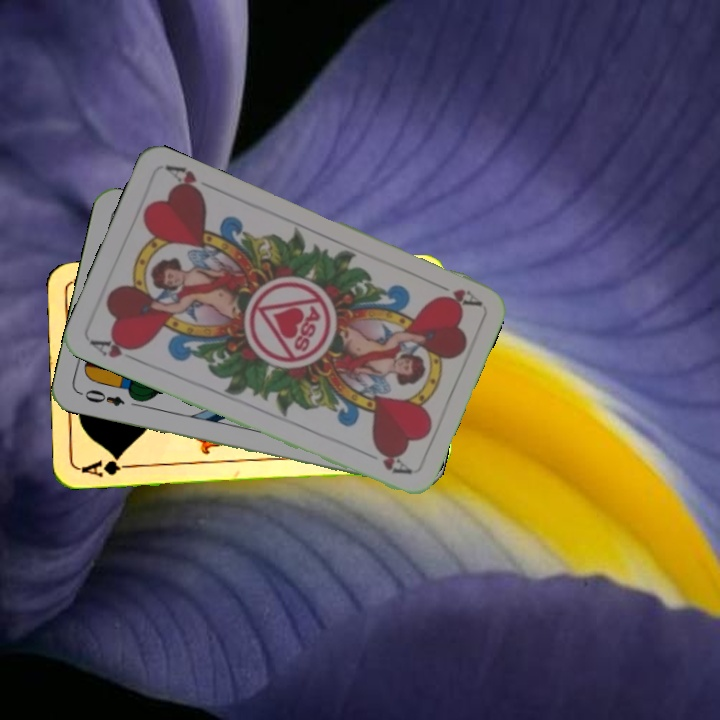EO: (80, 385, 127, 409)
GA: (78, 452, 137, 480)
HA: (86, 333, 143, 365), (426, 277, 483, 309)
